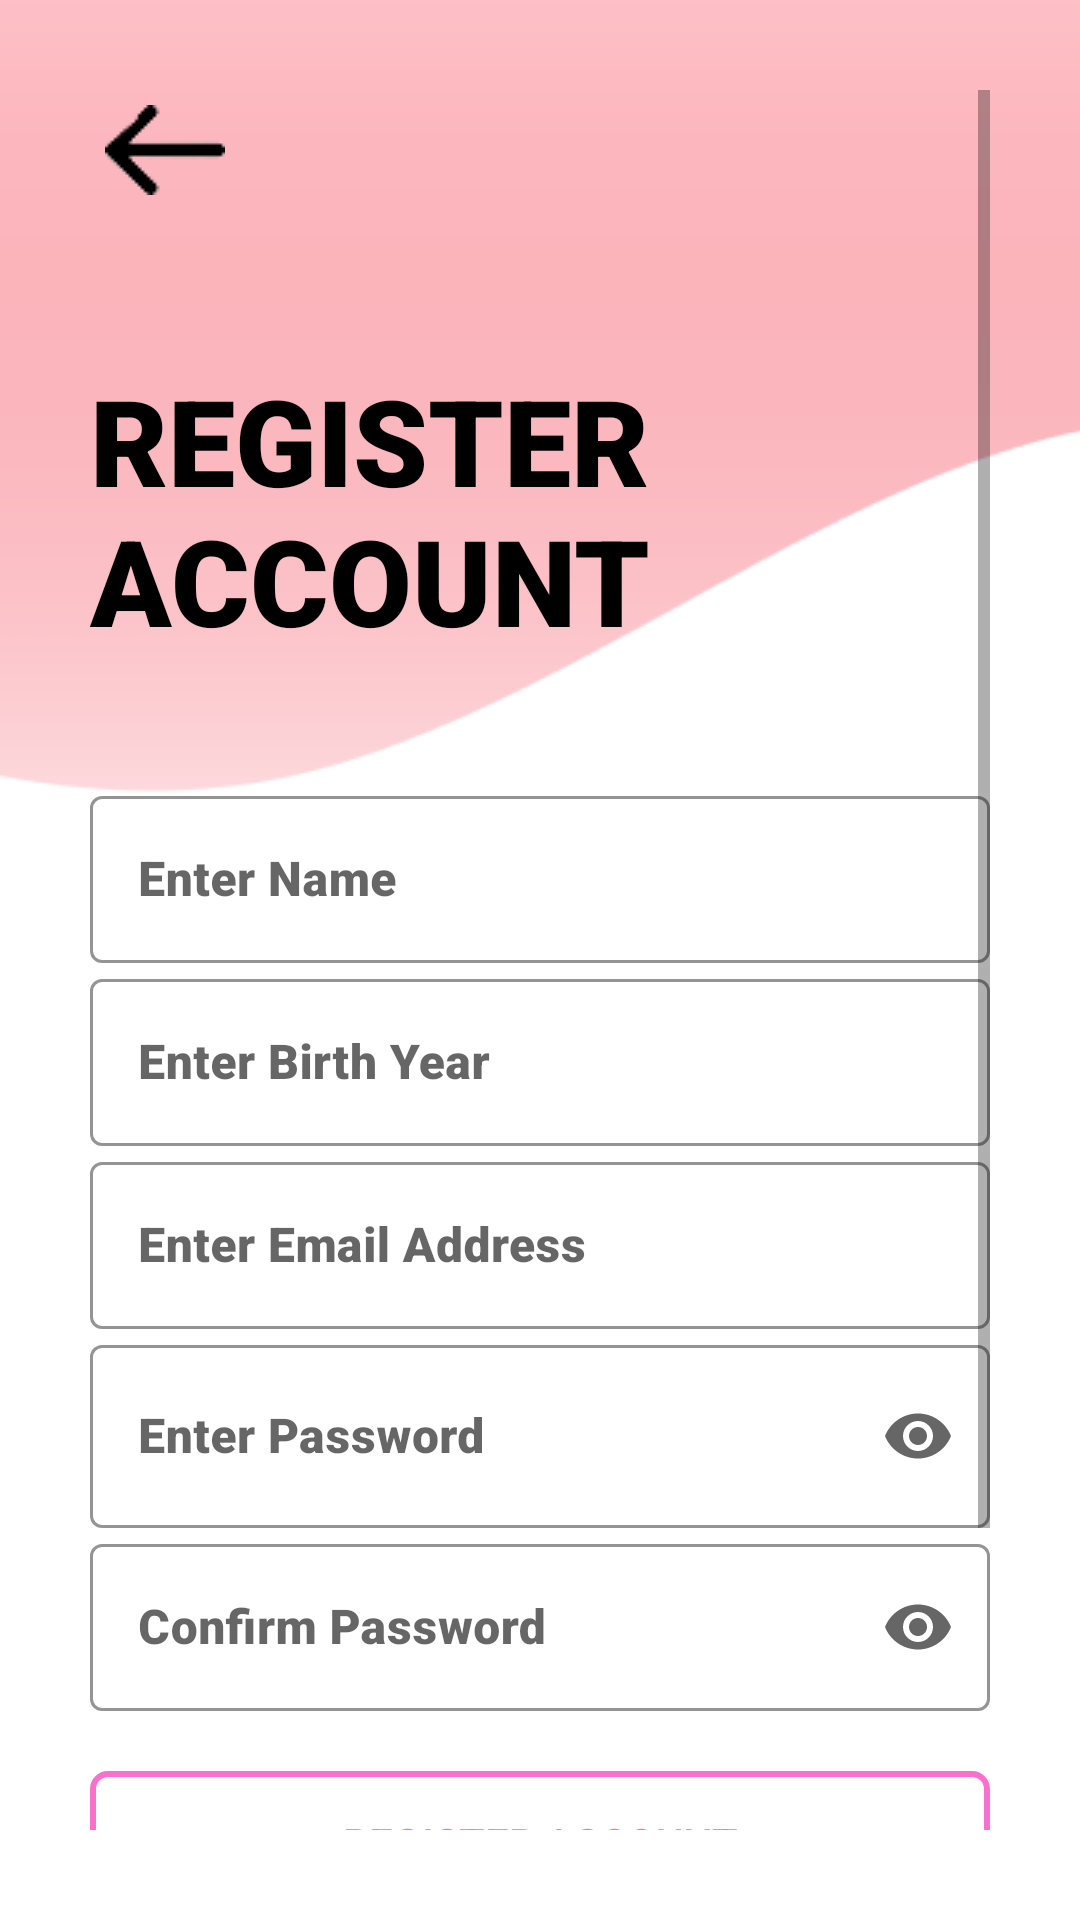

Screen size 1080 x 1920. Icon name, then its box in pixels as (x1, y1, x2, y2):
back: (105, 105, 225, 195)
